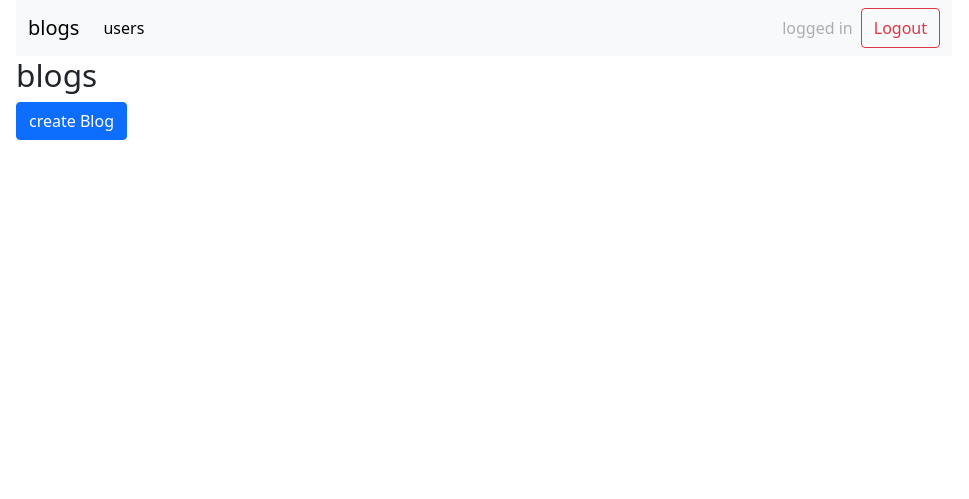
Bloglist app › when logged in › blog form can be opened
Click the button "create Blog".
click(72, 121)  # box x1=16 y1=102 x2=127 y2=140
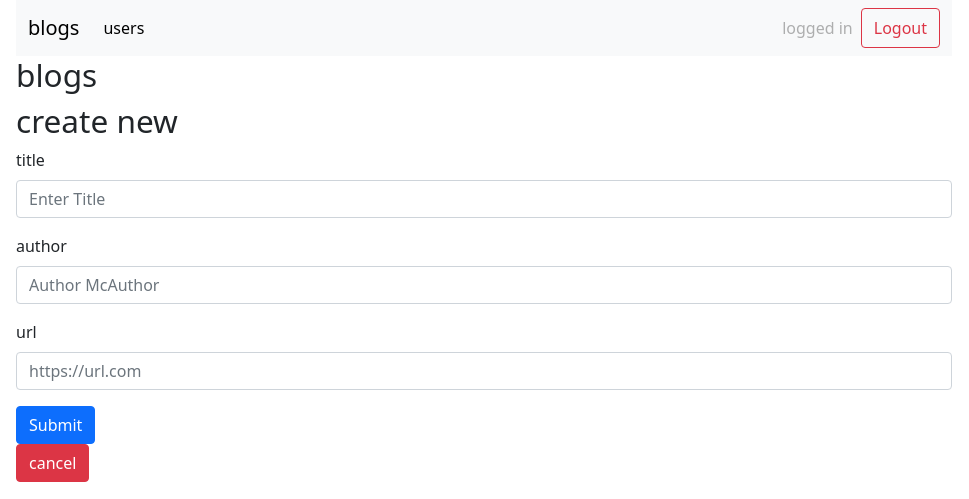
Check: the text "title" is shown, box x1=16 y1=148 x2=45 y2=172
Check: the text "author" is shown, box x1=16 y1=234 x2=67 y2=258
Check: the text "url" is shown, box x1=16 y1=320 x2=37 y2=344
